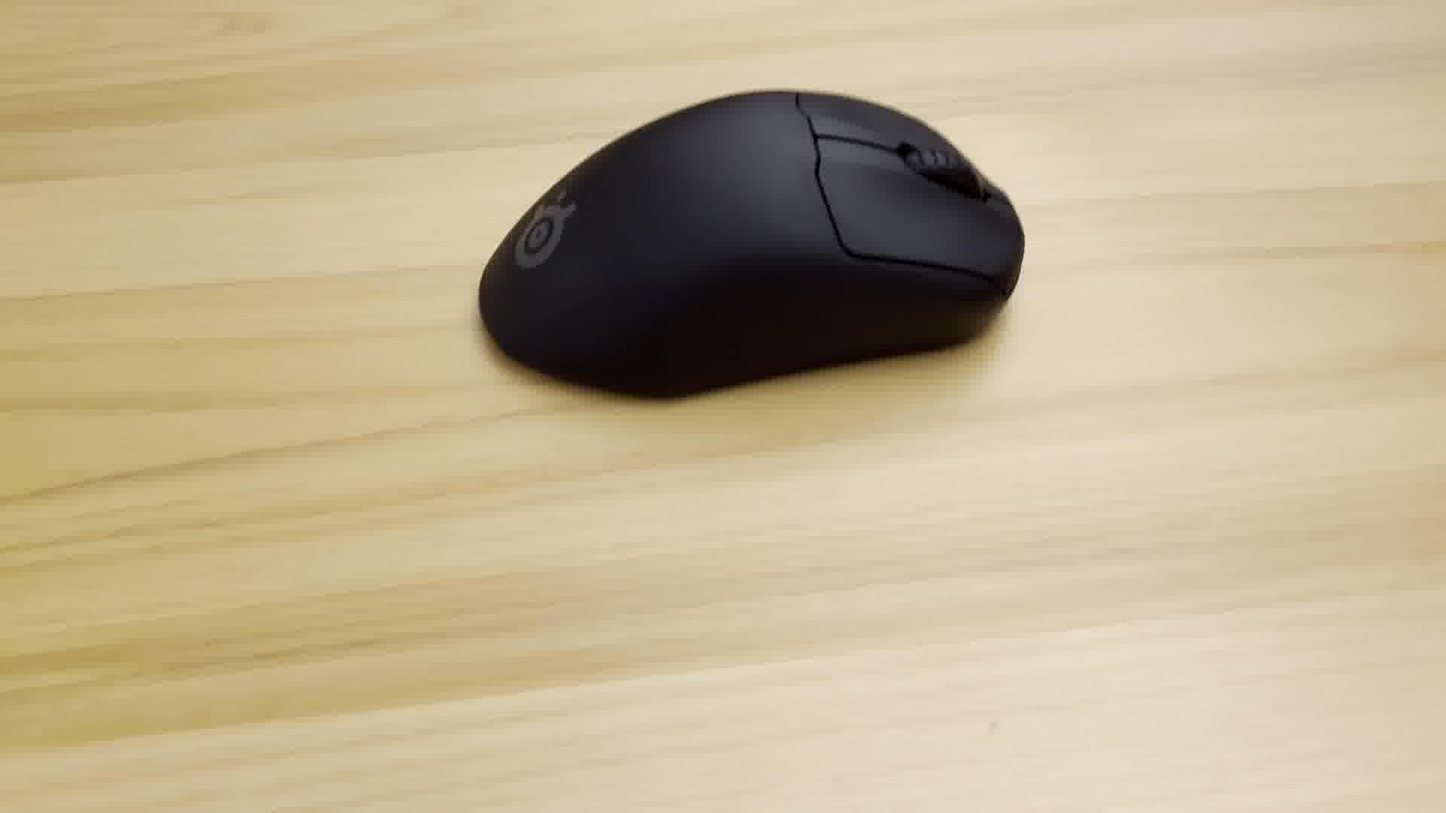steel-series: (466, 78, 1038, 425)
